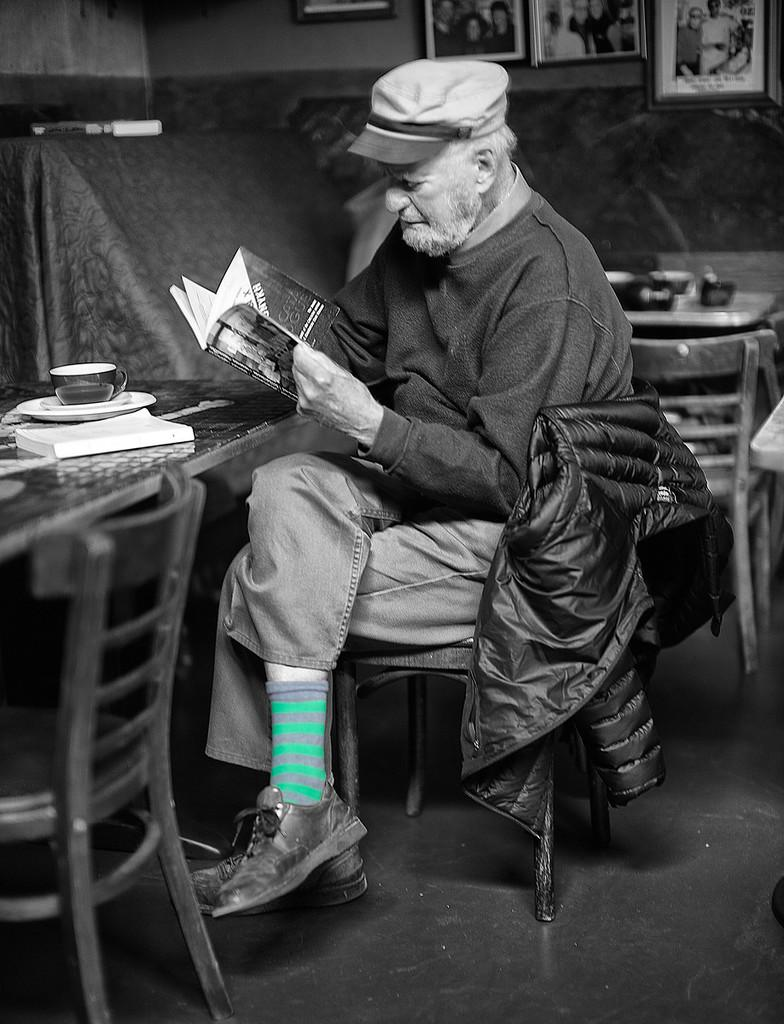Hat: (347, 56, 507, 165)
